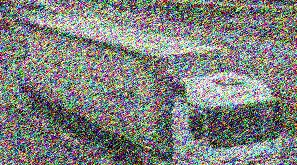truck: (15, 13, 282, 165)
